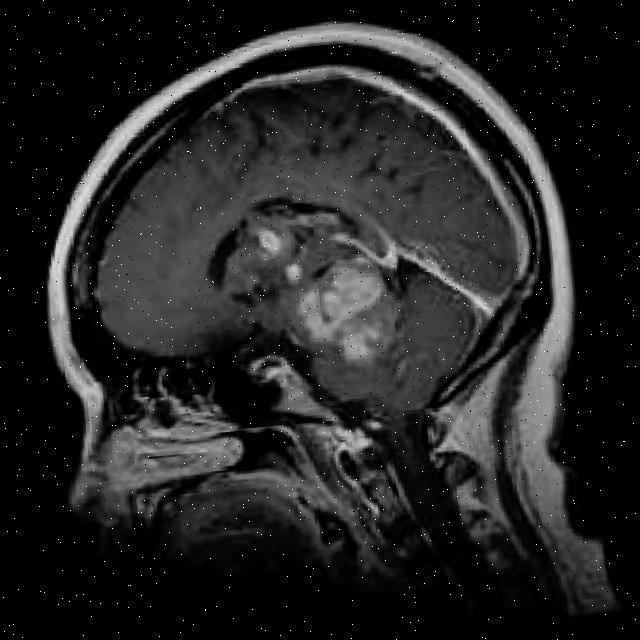MCI: (266, 242, 436, 378)
